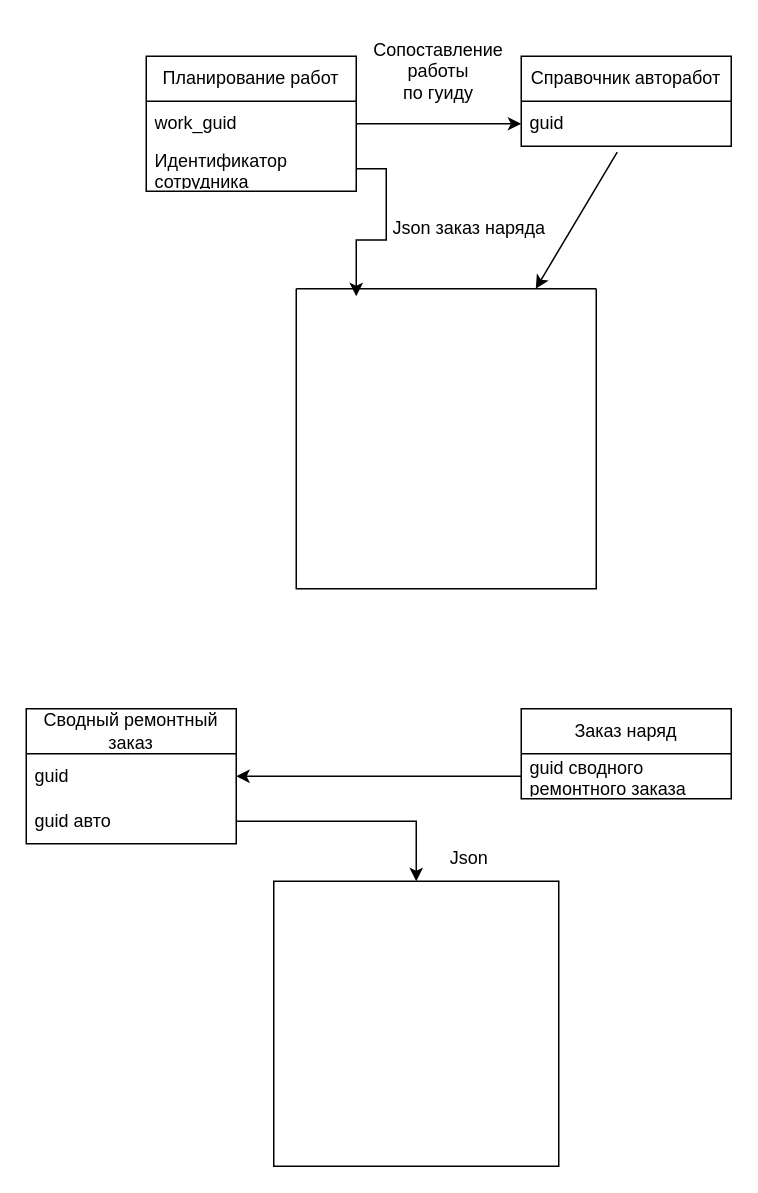
Image size: 758x1193. Some labels were removed from this diagram. Here are the shapes that lost their labels. From the top down, the centre of each, then its label:
point (445, 438): Авторааботы заказ наряда объект
point (415, 1023): Автомобиль
